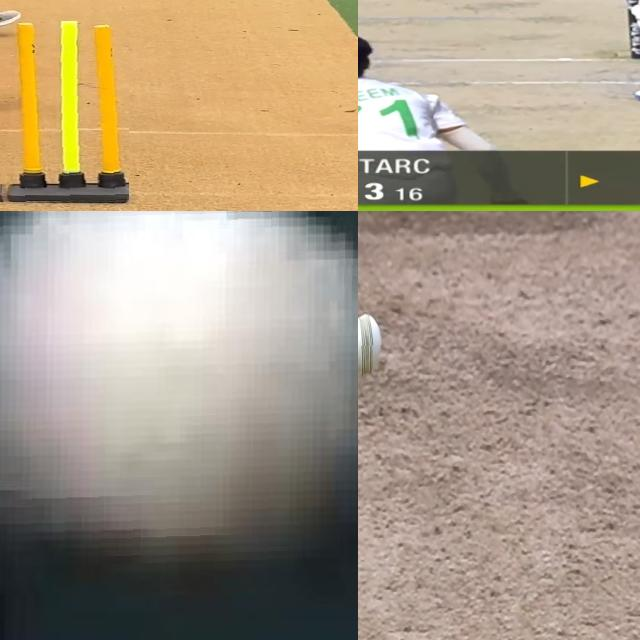Cricket ball: (0, 211, 358, 596), (358, 312, 383, 379)
Stumps: (0, 20, 129, 203)
